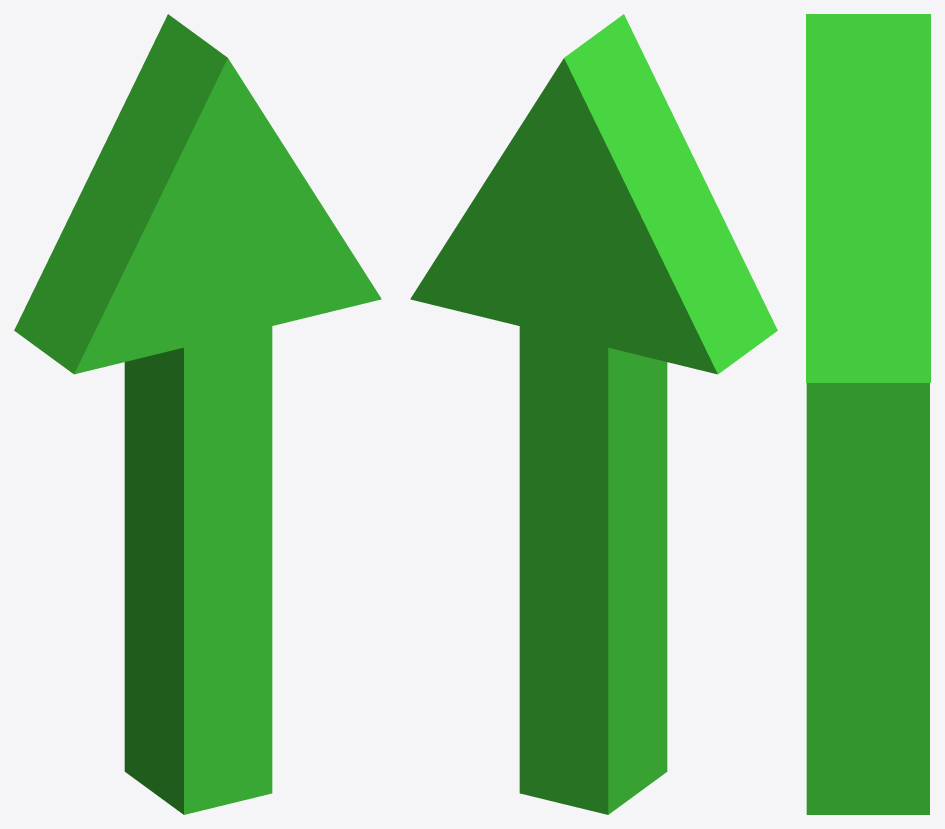
The model's file is green-arrow.glb.
3 views of the same model, side by side, from view 1: azimuth 30°, elevation 25°; view 2: azimuth 150°, elevation 25°; view 3: azimuth 270°, elevation 25° (orthographic). The views are drawn at different scales.
Parts seen in each view (by area): view 1: Arrow; view 2: Arrow; view 3: Arrow.
Boxes of the visible parts, box(x1,y1,x2,y2) form: Arrow: box(14, 14, 381, 814); Arrow: box(410, 14, 777, 814); Arrow: box(806, 14, 930, 814).
Bounding box in the file's own units: 0.2085 × 0.4832 × 0.0703.
